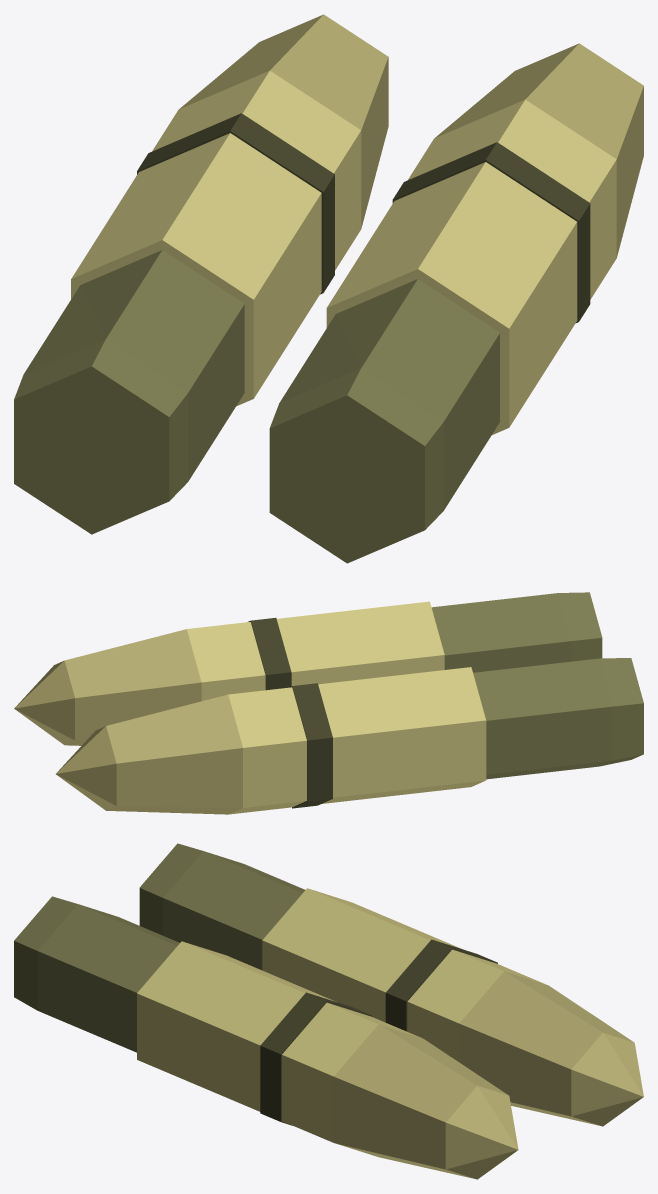
Rendered from ce_ammo2_type63_he_b.obj.
The picture shows the model from 3 angles, top to bottom: view 1: azimuth 30°, elevation 25°; view 2: azimuth 150°, elevation 25°; view 3: azimuth 270°, elevation 25°; orthographic projection. The views are drawn at different scales.
Visible parts, largest first — view 1: ce_ammo2_type63_he_b_9, ce_ammo2_type63_he_b_2, ce_ammo2_type63_he_b_7, ce_ammo2_type63_he_b_0, ce_ammo2_type63_he_b_1, ce_ammo2_type63_he_b_8, ce_ammo2_type63_he_b_12, ce_ammo2_type63_he_b_5, ce_ammo2_type63_he_b_4, ce_ammo2_type63_he_b_11, ce_ammo2_type63_he_b_10, ce_ammo2_type63_he_b_3; view 2: ce_ammo2_type63_he_b_2, ce_ammo2_type63_he_b_1, ce_ammo2_type63_he_b_5, ce_ammo2_type63_he_b_9, ce_ammo2_type63_he_b_12, ce_ammo2_type63_he_b_8, ce_ammo2_type63_he_b_4, ce_ammo2_type63_he_b_11, ce_ammo2_type63_he_b_0, ce_ammo2_type63_he_b_3, ce_ammo2_type63_he_b_6, ce_ammo2_type63_he_b_13 (+2 smaller); view 3: ce_ammo2_type63_he_b_9, ce_ammo2_type63_he_b_12, ce_ammo2_type63_he_b_5, ce_ammo2_type63_he_b_2, ce_ammo2_type63_he_b_8, ce_ammo2_type63_he_b_1, ce_ammo2_type63_he_b_11, ce_ammo2_type63_he_b_4, ce_ammo2_type63_he_b_13, ce_ammo2_type63_he_b_6, ce_ammo2_type63_he_b_10, ce_ammo2_type63_he_b_7 (+2 smaller).
Boxes of the visible parts, x1,y1,x2,y2 form: ce_ammo2_type63_he_b_9: (326, 162, 577, 434); ce_ammo2_type63_he_b_2: (71, 133, 321, 406); ce_ammo2_type63_he_b_7: (269, 368, 443, 563); ce_ammo2_type63_he_b_0: (14, 339, 187, 534); ce_ammo2_type63_he_b_1: (24, 250, 244, 481); ce_ammo2_type63_he_b_8: (279, 279, 499, 510); ce_ammo2_type63_he_b_12: (435, 43, 643, 257); ce_ammo2_type63_he_b_5: (179, 14, 388, 228); ce_ammo2_type63_he_b_4: (152, 70, 361, 270); ce_ammo2_type63_he_b_11: (407, 99, 616, 299); ce_ammo2_type63_he_b_10: (392, 142, 590, 322); ce_ammo2_type63_he_b_3: (137, 113, 334, 294); ce_ammo2_type63_he_b_2: (318, 667, 486, 803); ce_ammo2_type63_he_b_1: (473, 658, 612, 779); ce_ammo2_type63_he_b_5: (106, 694, 242, 814); ce_ammo2_type63_he_b_9: (276, 601, 444, 685); ce_ammo2_type63_he_b_12: (64, 629, 201, 745); ce_ammo2_type63_he_b_8: (431, 593, 571, 672); ce_ammo2_type63_he_b_4: (228, 687, 306, 814); ce_ammo2_type63_he_b_11: (187, 622, 265, 700); ce_ammo2_type63_he_b_0: (599, 658, 643, 766); ce_ammo2_type63_he_b_3: (289, 683, 332, 808); ce_ammo2_type63_he_b_6: (56, 726, 116, 810); ce_ammo2_type63_he_b_13: (14, 660, 74, 745); ce_ammo2_type63_he_b_9: (137, 941, 335, 1111); ce_ammo2_type63_he_b_12: (333, 1024, 508, 1179); ce_ammo2_type63_he_b_5: (459, 971, 633, 1126); ce_ammo2_type63_he_b_2: (262, 888, 461, 1022); ce_ammo2_type63_he_b_8: (37, 904, 179, 1052); ce_ammo2_type63_he_b_1: (163, 851, 305, 970); ce_ammo2_type63_he_b_11: (282, 1002, 421, 1142); ce_ammo2_type63_he_b_4: (407, 949, 547, 1061); ce_ammo2_type63_he_b_13: (445, 1085, 518, 1179); ce_ammo2_type63_he_b_6: (571, 1032, 643, 1126); ce_ammo2_type63_he_b_10: (260, 992, 372, 1125); ce_ammo2_type63_he_b_7: (14, 896, 77, 1010).
Bounding box in the file's own units: 0.8167 × 0.1938 × 0.8167.
